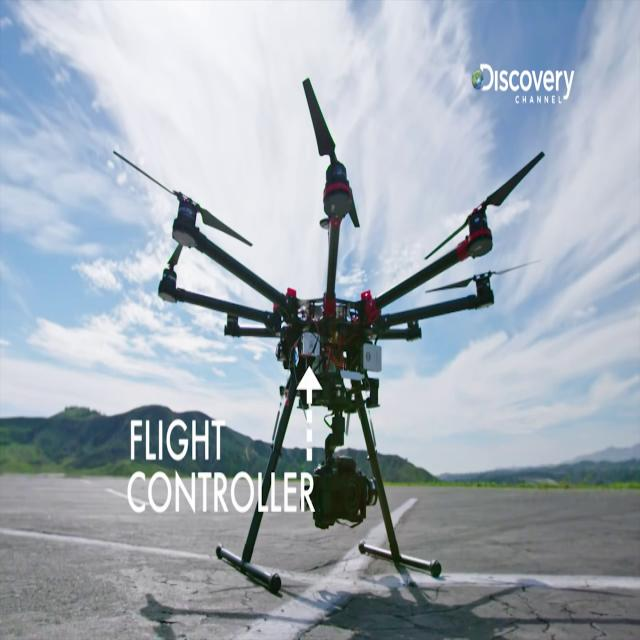drone: (150, 103, 493, 592)
